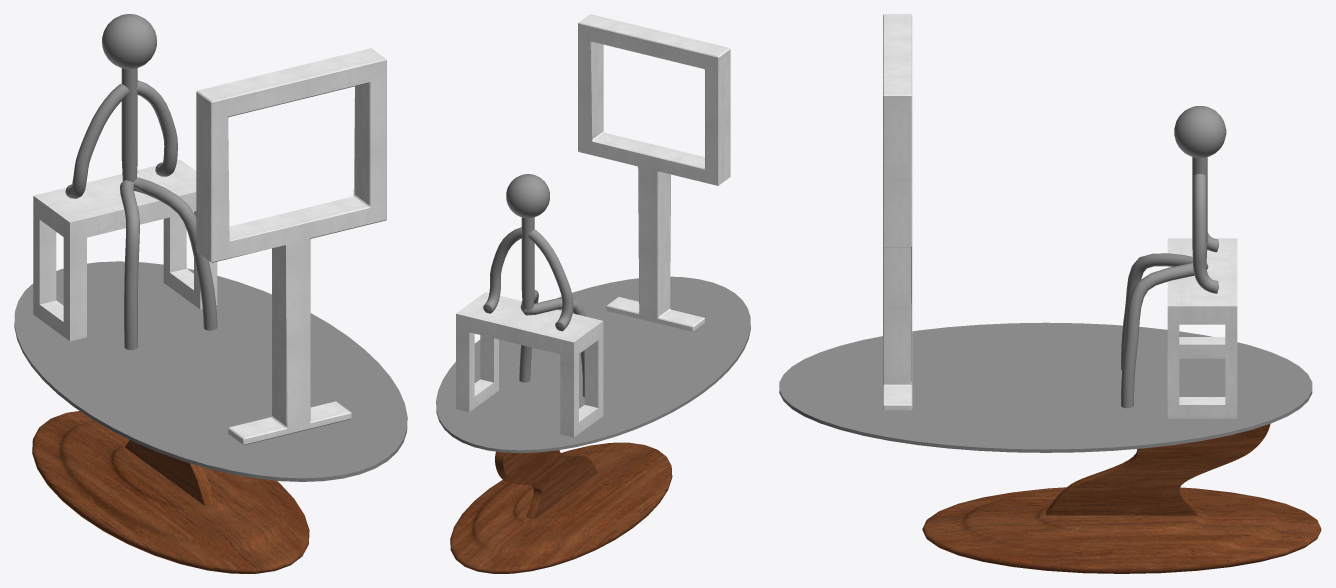
The model's file is Decor_01.FBX.
3 renders of one model, left to right at view 1: azimuth 30°, elevation 25°; view 2: azimuth 150°, elevation 25°; view 3: azimuth 270°, elevation 25°, orthographic. The views are drawn at different scales.
Parts seen in each view (by area): view 1: Decor_01, Decor_01a, Decor_01man; view 2: Decor_01, Decor_01a, Decor_01man; view 3: Decor_01, Decor_01a, Decor_01man.
Boxes of the visible parts, x1,y1,x2,y2 form: Decor_01: (14,261,407,573); Decor_01a: (33,48,386,445); Decor_01man: (65,14,217,349); Decor_01: (436,276,750,573); Decor_01a: (456,14,730,437); Decor_01man: (483,174,585,396); Decor_01: (779,322,1321,573); Decor_01a: (883,14,1237,418); Decor_01man: (1121,106,1226,408).
Bounding box in the file's own units: 234 × 412 × 422.
